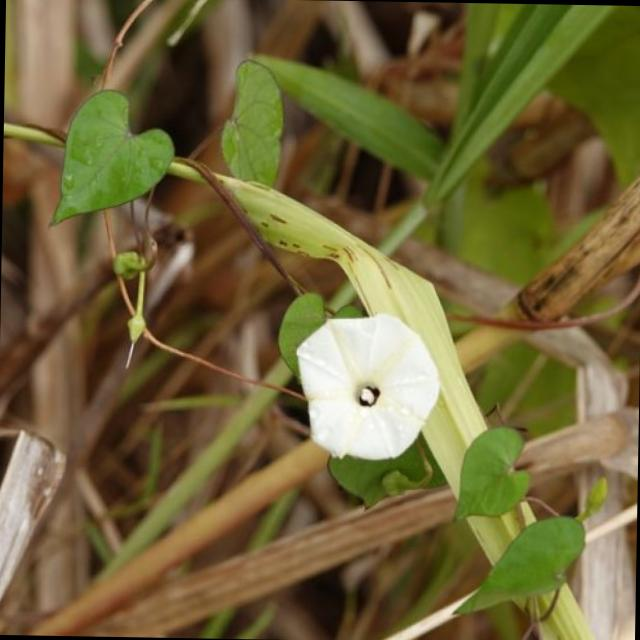ipomoea: (288, 308, 446, 468)
